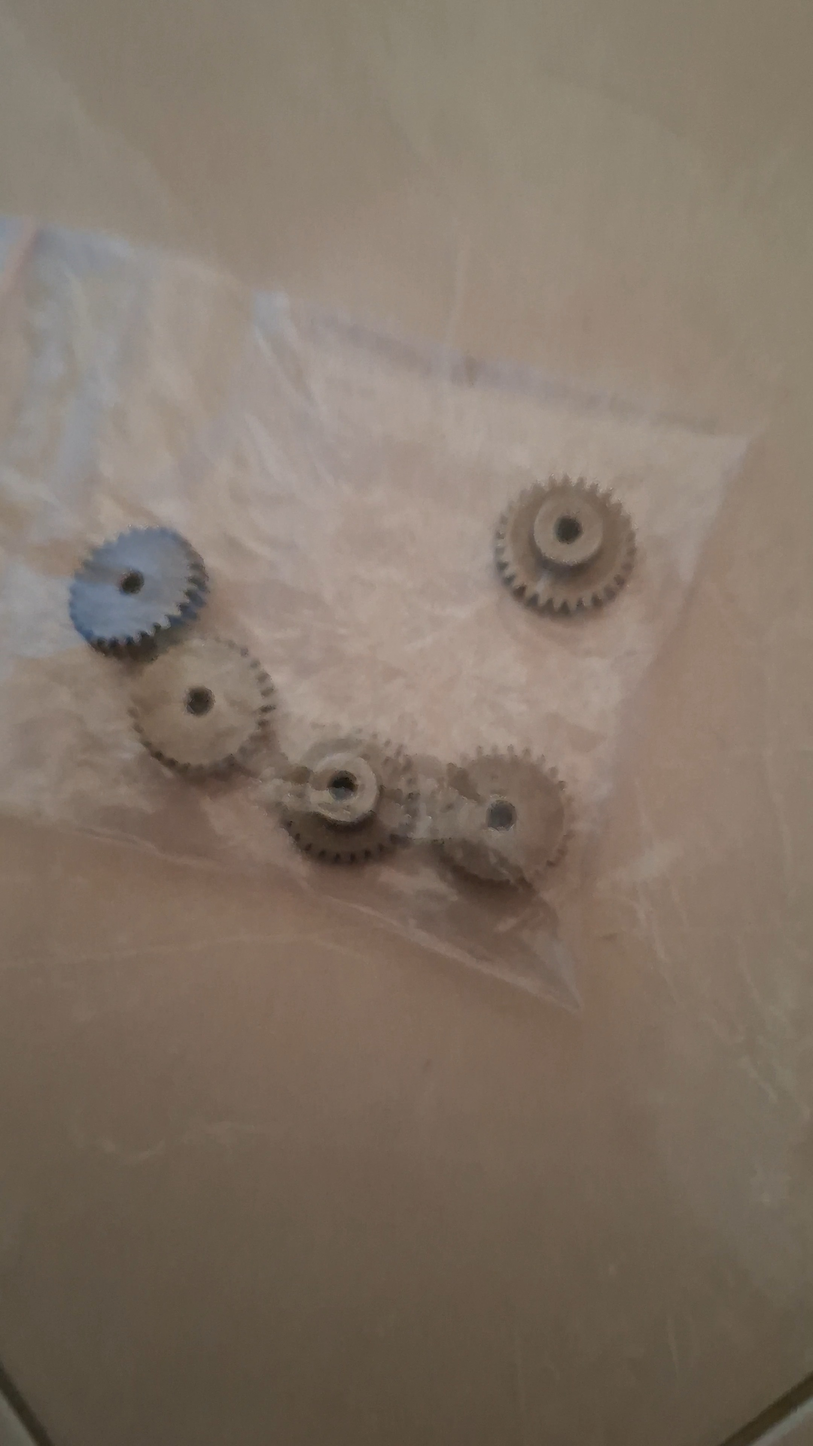spur gear: (131, 638, 274, 775), (495, 477, 635, 614), (430, 750, 567, 884), (69, 527, 207, 656), (280, 735, 419, 863)
